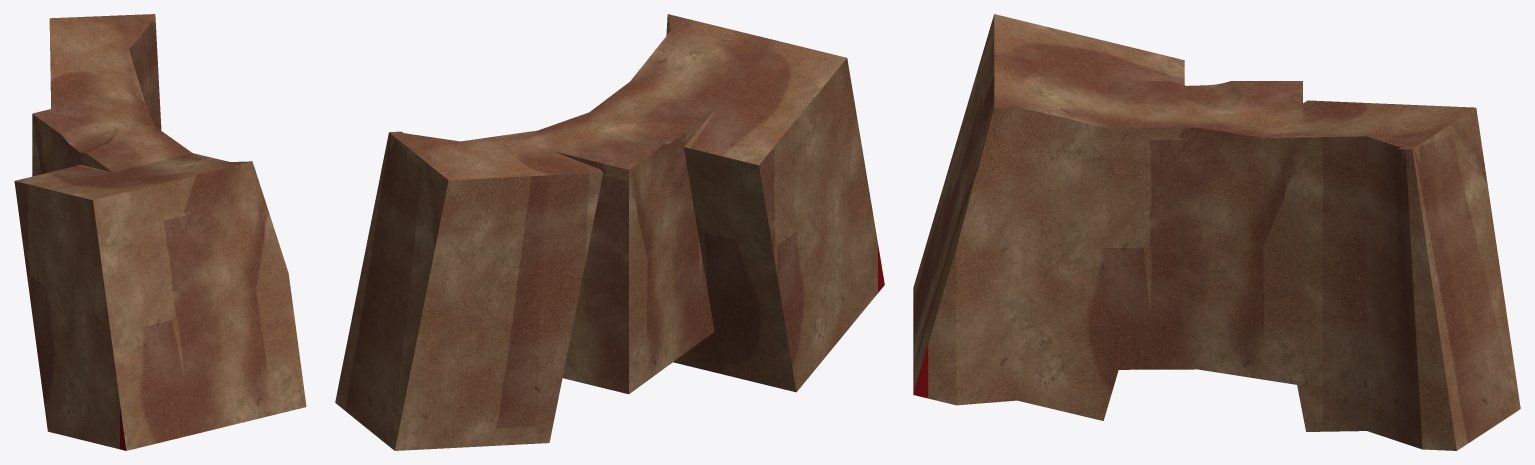
Rendered from ground.glb.
The picture shows the model from 3 angles, left to right: view 1: azimuth 30°, elevation 25°; view 2: azimuth 150°, elevation 25°; view 3: azimuth 270°, elevation 25°; orthographic projection. The views are drawn at different scales.
Visible parts, largest first — view 1: Ground2; view 2: Ground2; view 3: Ground2.
Part boxes in pixels (box(x1,y1,x2,y2)): Ground2: box(14, 14, 306, 450); Ground2: box(335, 14, 884, 450); Ground2: box(913, 14, 1520, 450).
Bounding box in the file's own units: 66.32 × 64.05 × 109.
1 material, 1 textured.
